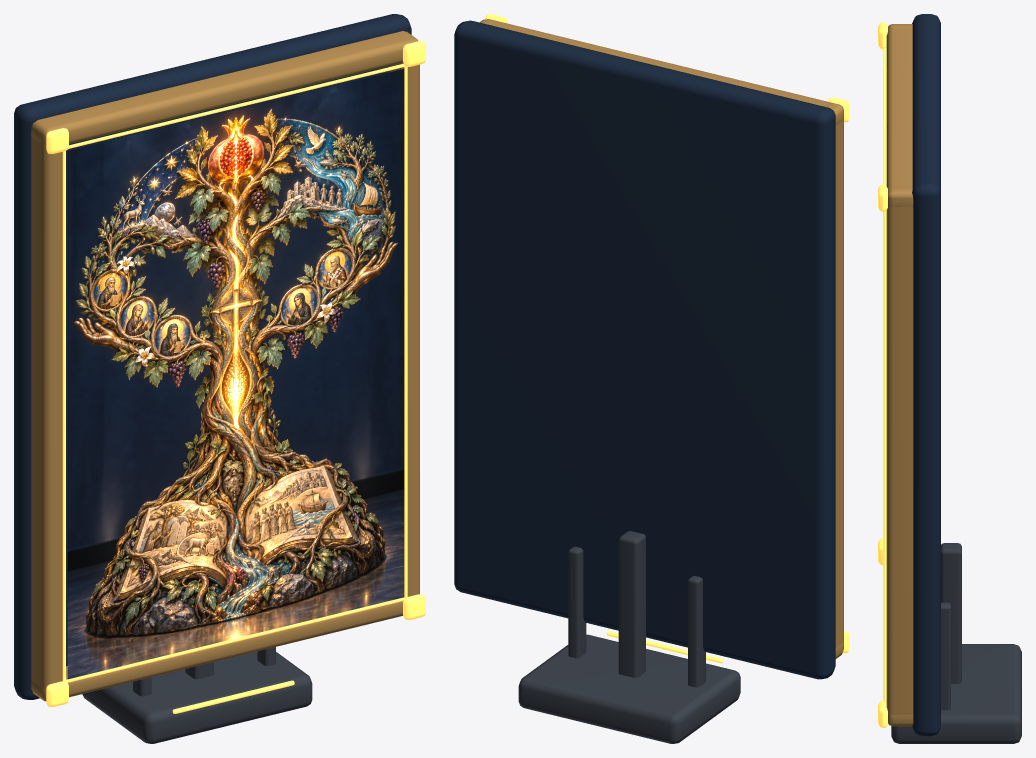
Rendered from tree-support-canvas.glb.
The picture shows the model from 3 angles, left to right: view 1: azimuth 30°, elevation 25°; view 2: azimuth 150°, elevation 25°; view 3: azimuth 270°, elevation 25°; orthographic projection. The views are drawn at different scales.
Parts seen in each view (by area): view 1: Canvas_Surface, Canvas_Backplate, Canvas_Frame_Left, Canvas_Frame_Top, Canvas_Stand_Plinth, Canvas_Frame_Right, Canvas_Frame_Bottom, Canvas_Glow_Trim_Right, Canvas_Glow_Trim_Left, Canvas_Glow_Trim_Top, Canvas_Glow_Trim_Bottom, Canvas_Stand_Accent; view 2: Canvas_Backplate, Canvas_Stand_Plinth, Canvas_Frame_Left, Canvas_Stand_Center_Support, Canvas_Frame_Top, Canvas_Stand_Post_R, Canvas_Stand_Post_L; view 3: Canvas_Backplate, Canvas_Frame_Right, Canvas_Stand_Plinth, Canvas_Frame_Top, Canvas_Stand_Center_Support, Canvas_Glow_Trim_Right, Canvas_Stand_Post_R, Canvas_Glow_Trim_Top, Canvas_Frame_Bottom.
Part boxes in pixels (x1,y1,x2,y2): Canvas_Surface: (67, 69, 404, 679); Canvas_Backplate: (14, 14, 411, 699); Canvas_Frame_Left: (31, 118, 62, 698); Canvas_Frame_Top: (31, 31, 417, 144); Canvas_Stand_Plinth: (82, 651, 312, 743); Canvas_Frame_Right: (389, 31, 419, 596); Canvas_Frame_Bottom: (31, 601, 402, 701); Canvas_Glow_Trim_Right: (404, 66, 407, 598); Canvas_Glow_Trim_Left: (62, 151, 65, 681); Canvas_Glow_Trim_Top: (68, 63, 404, 148); Canvas_Glow_Trim_Bottom: (65, 597, 405, 682); Canvas_Stand_Accent: (172, 680, 294, 713); Canvas_Backplate: (454, 20, 835, 679); Canvas_Stand_Plinth: (518, 634, 740, 743); Canvas_Frame_Left: (824, 102, 843, 647); Canvas_Stand_Center_Support: (618, 531, 645, 677); Canvas_Frame_Top: (479, 19, 843, 125); Canvas_Stand_Post_R: (568, 546, 586, 658); Canvas_Stand_Post_L: (688, 575, 705, 687); Canvas_Backplate: (912, 14, 940, 736); Canvas_Frame_Right: (886, 186, 913, 724); Canvas_Stand_Plinth: (891, 644, 1021, 743); Canvas_Frame_Top: (886, 24, 913, 206); Canvas_Stand_Center_Support: (941, 543, 961, 683); Canvas_Glow_Trim_Right: (883, 211, 886, 701); Canvas_Stand_Post_R: (941, 602, 950, 710); Canvas_Glow_Trim_Top: (883, 48, 886, 185); Canvas_Frame_Bottom: (888, 714, 913, 726).
Size of the model in its own units: 2.32 by 3.71 by 0.7925.
Materials: 5 (1 with a texture image).
